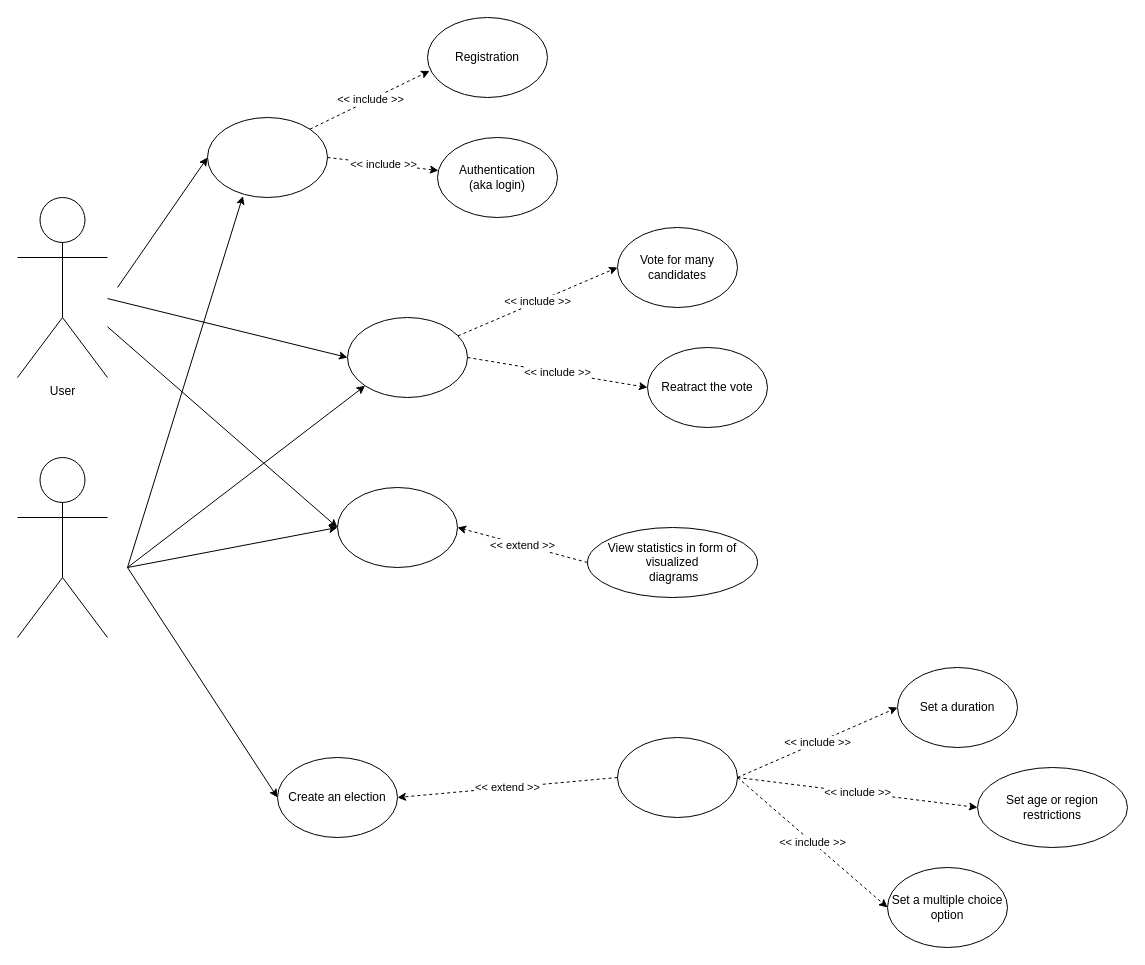
Some shapes in this 1145 by 965 pixel diagram are drawn without their labels. Here are the shapes that lost their labels. From the top down, the box of each, then its label:
(206, 116, 328, 198): Authorization
(346, 316, 468, 398): Vote
(16, 456, 108, 638): Admin
(336, 486, 458, 568): View election voting statistics
(616, 736, 738, 818): Setup election restrictions
